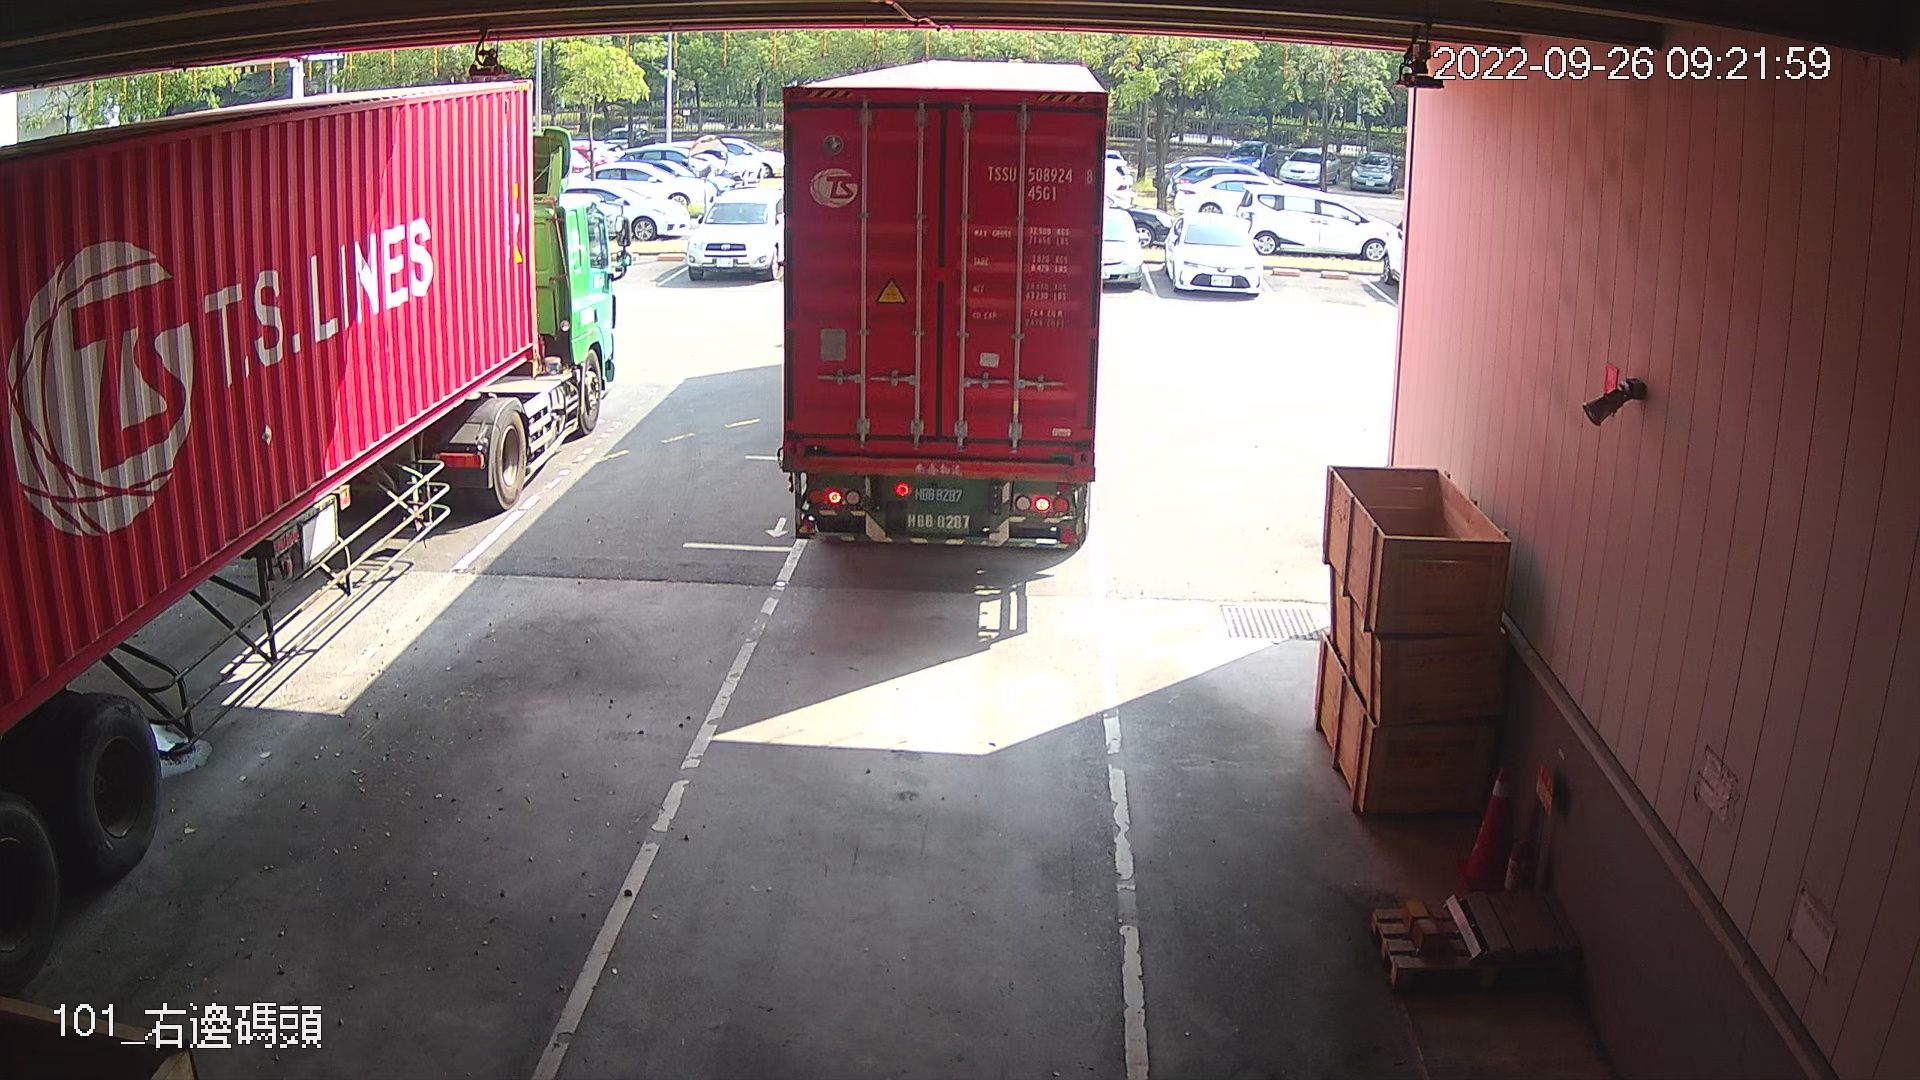container: (978, 156, 1098, 204)
